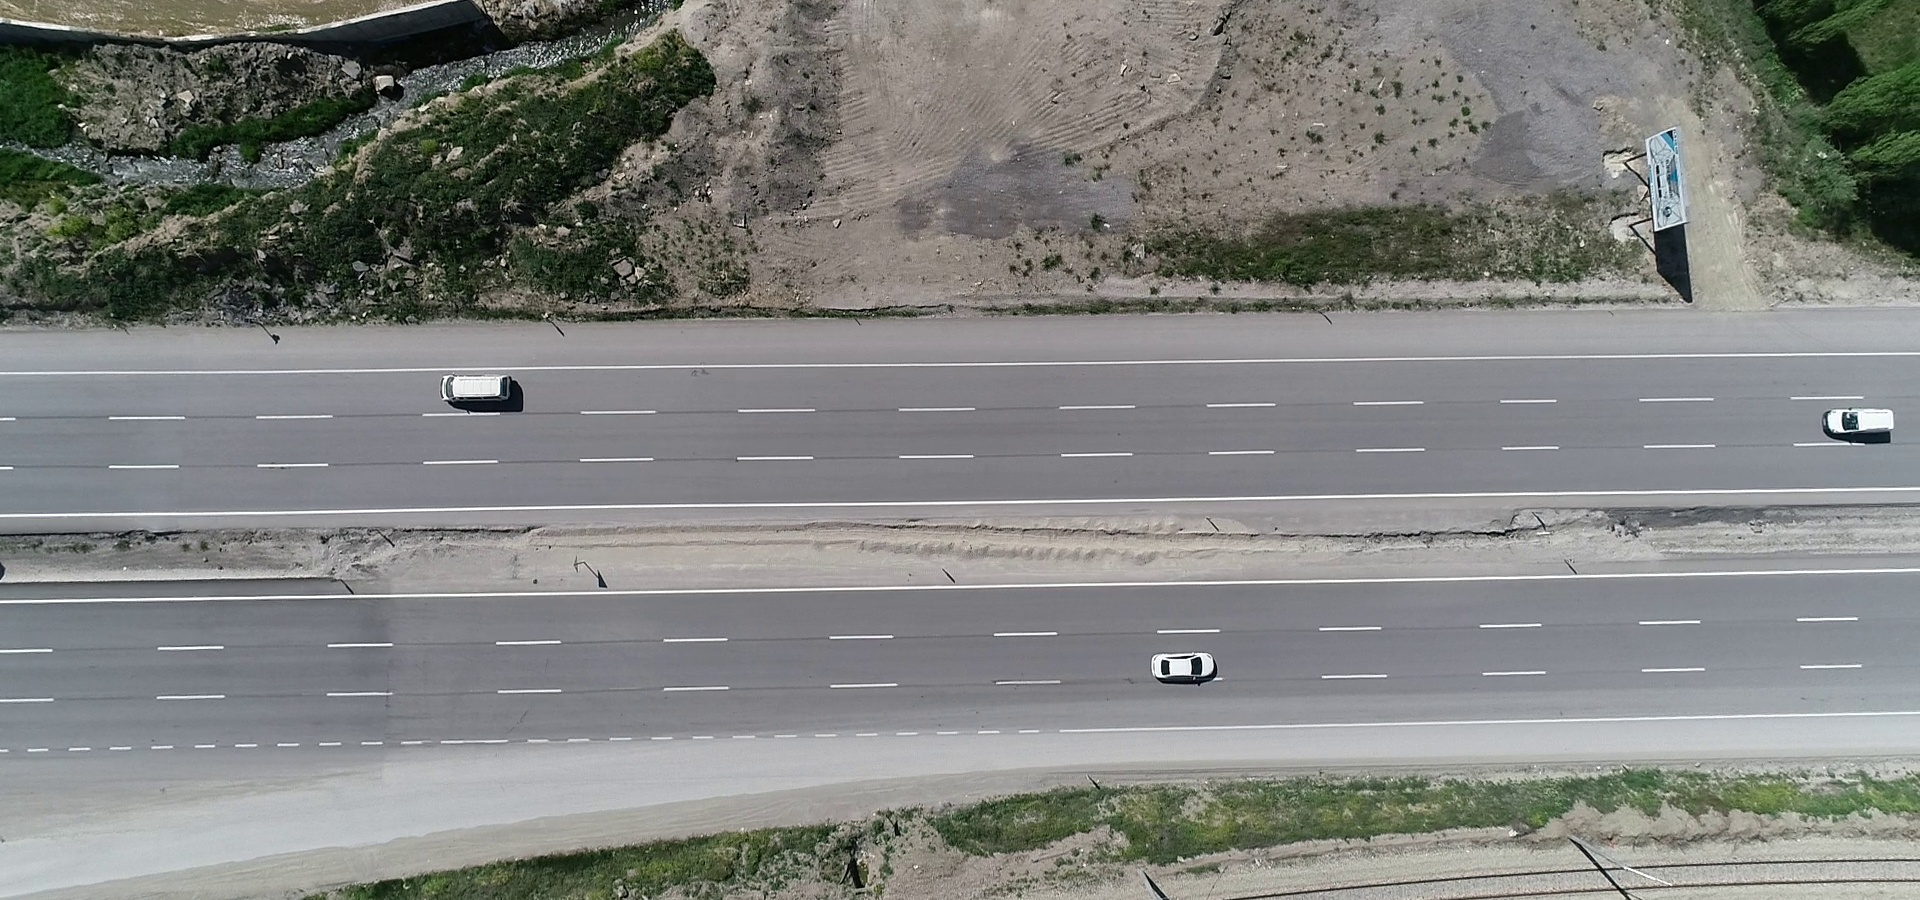araba: (437, 361, 534, 420), (1817, 407, 1916, 442), (1149, 640, 1221, 688)
